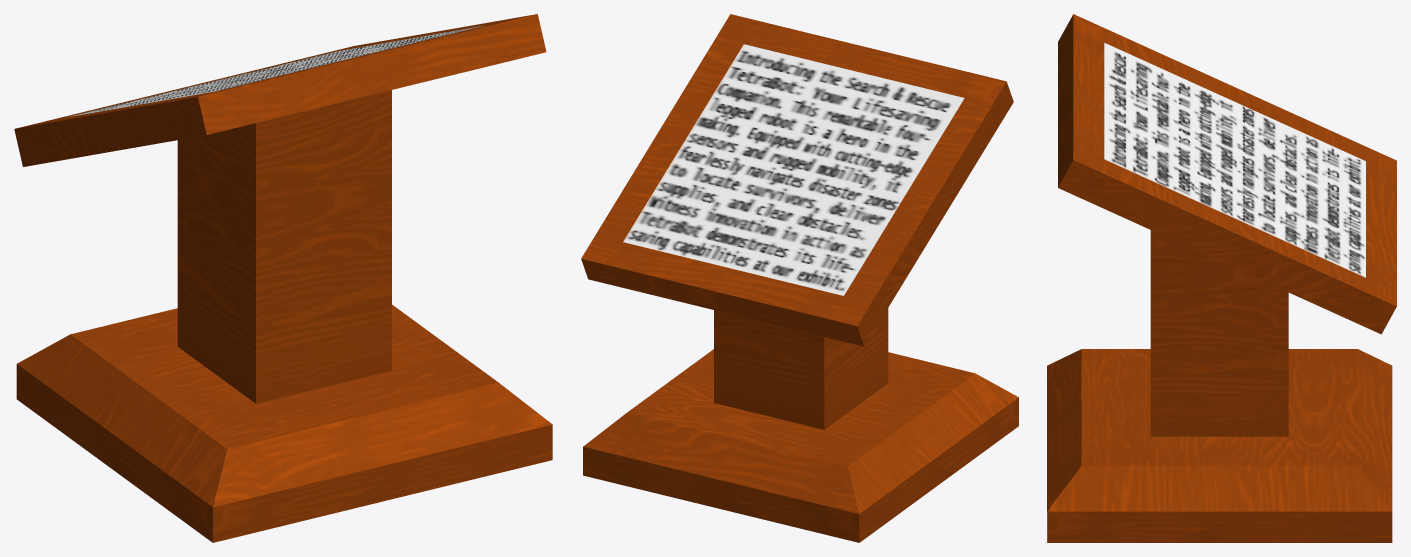
Rendered from ExhibitLectern.fbx.
3 renders of one model, left to right at view 1: azimuth 30°, elevation 25°; view 2: azimuth 150°, elevation 25°; view 3: azimuth 270°, elevation 25°, orthographic. The views are drawn at different scales.
Parts seen in each view (by area): view 1: Cube; view 2: Cube; view 3: Cube.
Boxes of the visible parts, x1,y1,x2,y2 form: Cube: (14, 14, 552, 542); Cube: (581, 14, 1018, 542); Cube: (1047, 14, 1396, 542).
Bounding box in the file's own units: 100 × 122 × 101.
